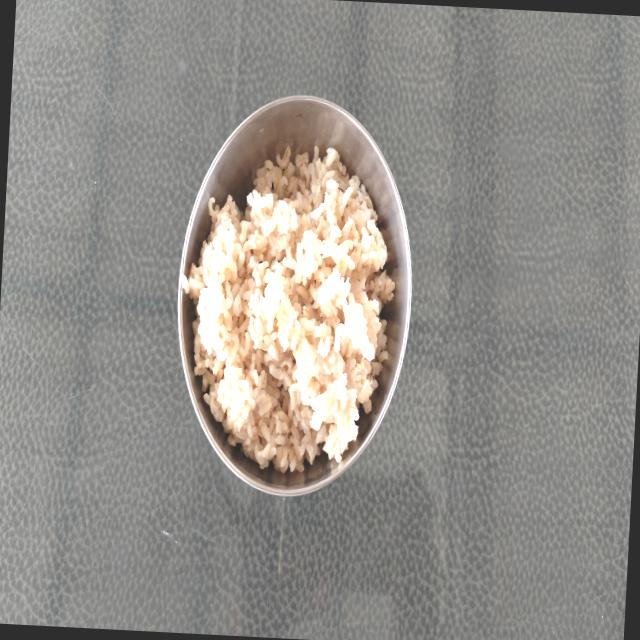brown-rice: (181, 148, 394, 473)
